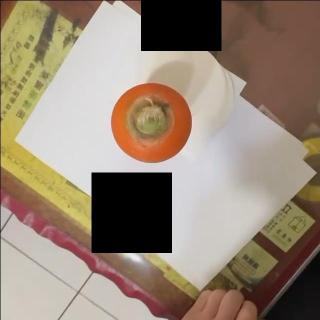carrot: (110, 80, 191, 164)
